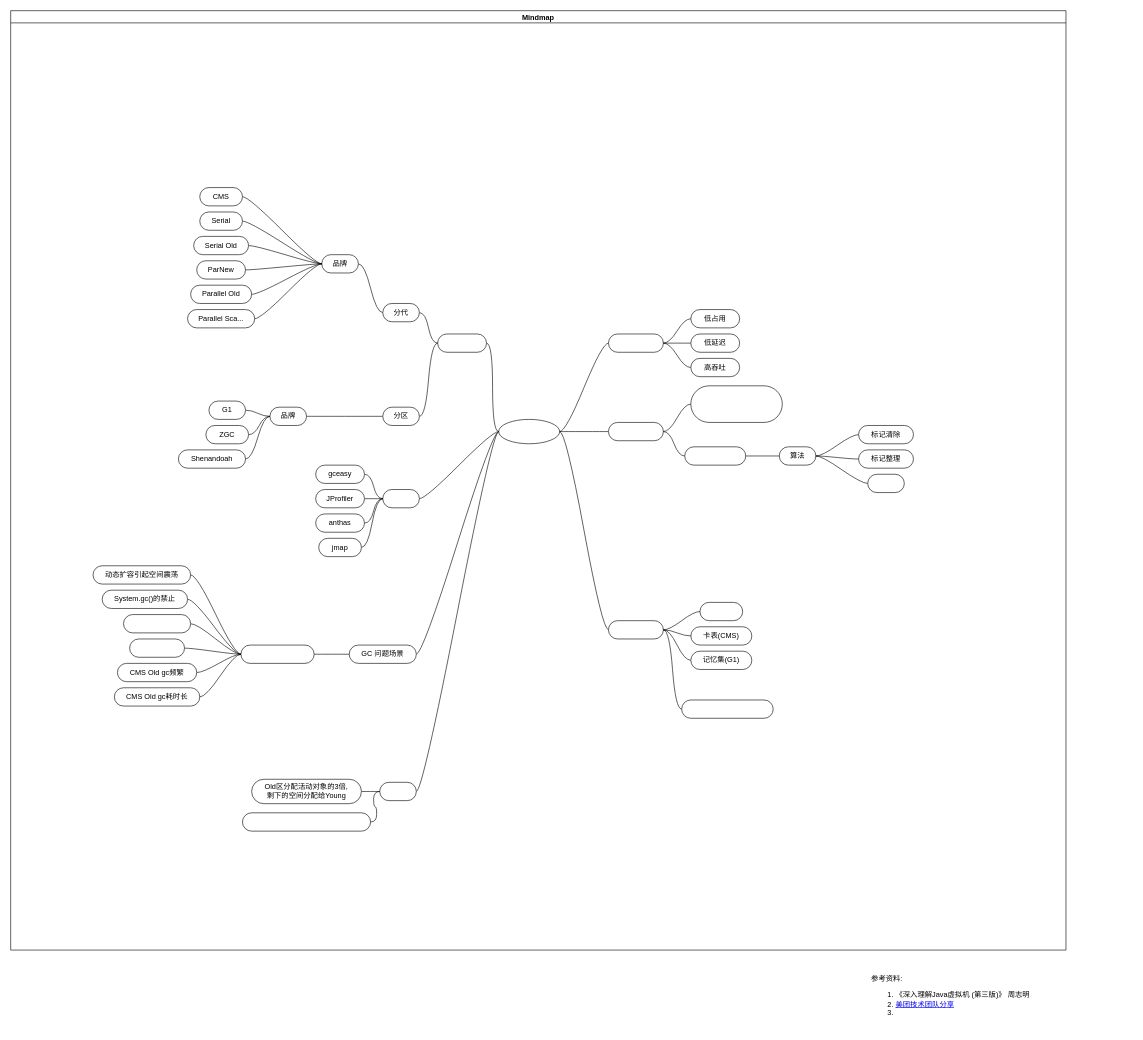
Some shapes in this 1143 by 1040 pixel diagram are drawn without their labels. Here are the shapes that lost their labels. From the top down, the box of each, then its label:
(437, 333, 486, 352): 方法论
(608, 333, 663, 352): 性能指标
(690, 385, 782, 422): 引用计数 (Java垃圾回收器不用 )
(498, 419, 560, 444): Java GC
(608, 422, 663, 441): 技术手段
(684, 446, 746, 465): 可达性分析
(382, 489, 419, 508): 工具
(867, 474, 904, 493): 复制
(123, 614, 191, 633): 元空间OOM
(608, 620, 663, 639): 相关概念
(699, 602, 743, 621): TLAB
(129, 638, 185, 657): 过早晋升
(240, 644, 314, 663): CMS + ParNew
(681, 699, 773, 718): Survive Time分布图
(379, 782, 416, 801): 经验
(242, 812, 371, 831): 问题的难度和出现的频率成反比
